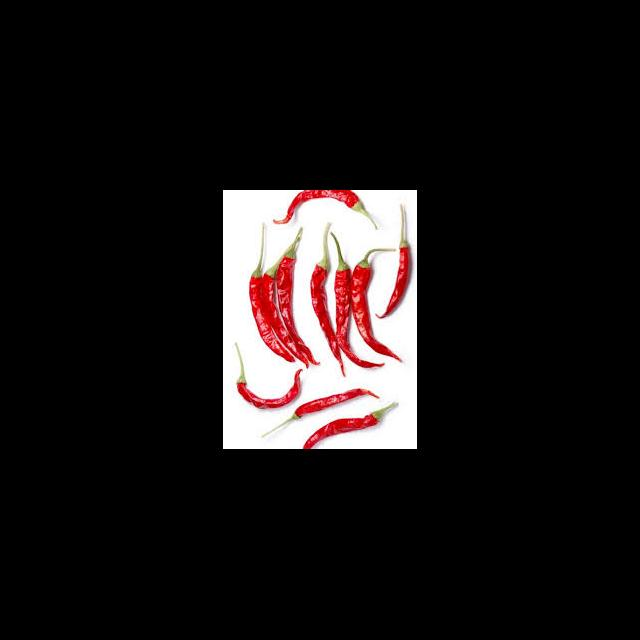chili_pepper: (350, 264, 402, 364), (277, 257, 322, 370), (249, 271, 297, 364), (301, 404, 398, 449), (310, 262, 345, 379), (236, 370, 302, 414), (272, 190, 362, 222), (375, 246, 411, 321), (293, 390, 380, 419)
